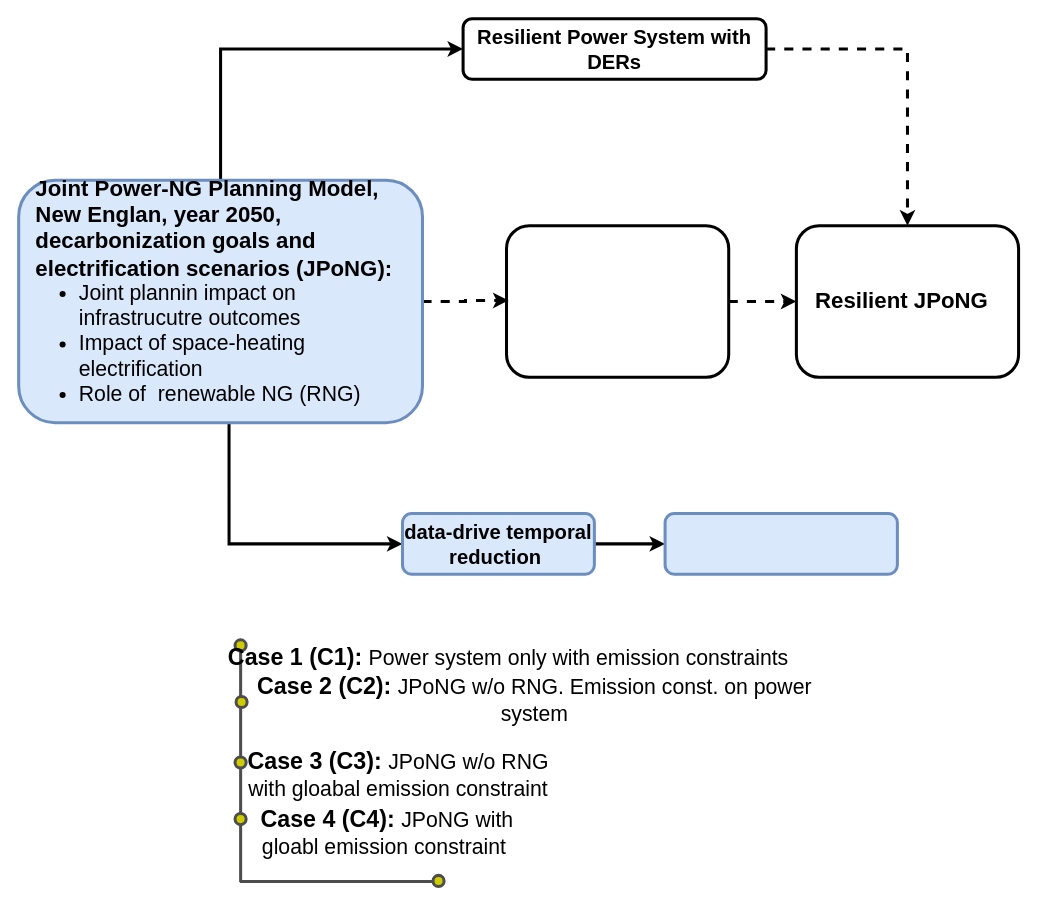
The diagram is 1037 pixels wide and 906 high, and some of its shapes have lost their labels. Here are the shapes that lost their labels. From the top down, the centre of each, then its label:
At (617,301): "JPoNG+Uncertainty of load and capacity factors".
At (780,543): "data-drive spatio-temporal reduction".
